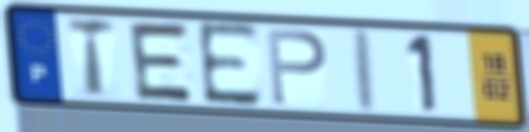1: (404, 32, 440, 116)
E: (194, 19, 265, 110), (126, 19, 198, 105)
I: (354, 25, 380, 116)
P: (263, 25, 330, 108)
T: (65, 15, 118, 101)
